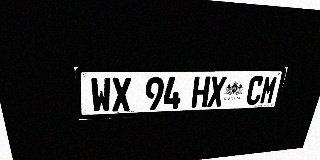4: (163, 77, 182, 109)
9: (145, 77, 164, 110)
C: (245, 76, 265, 105)
H: (191, 76, 211, 108)
M: (259, 76, 279, 104)
W: (90, 77, 112, 113)
X: (111, 77, 131, 112), (207, 76, 227, 107)
